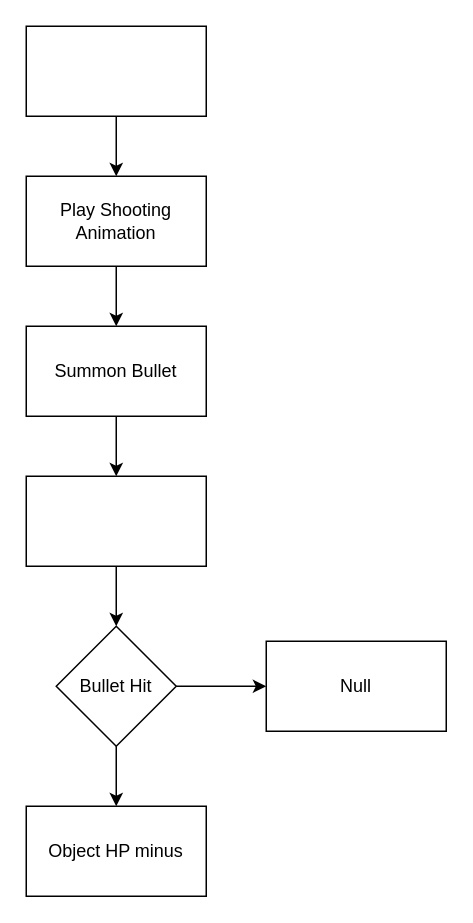
Image size: 473x923. Some labels were removed from this diagram. The centre of each missing label's shape, as x and y in pixels:
"Bullet Moves Forward" goes at (x=115, y=520).
"Press Button" goes at (x=115, y=70).
